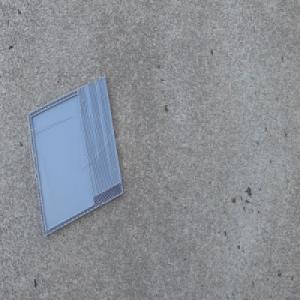PlasticPart: (26, 75, 125, 239)
